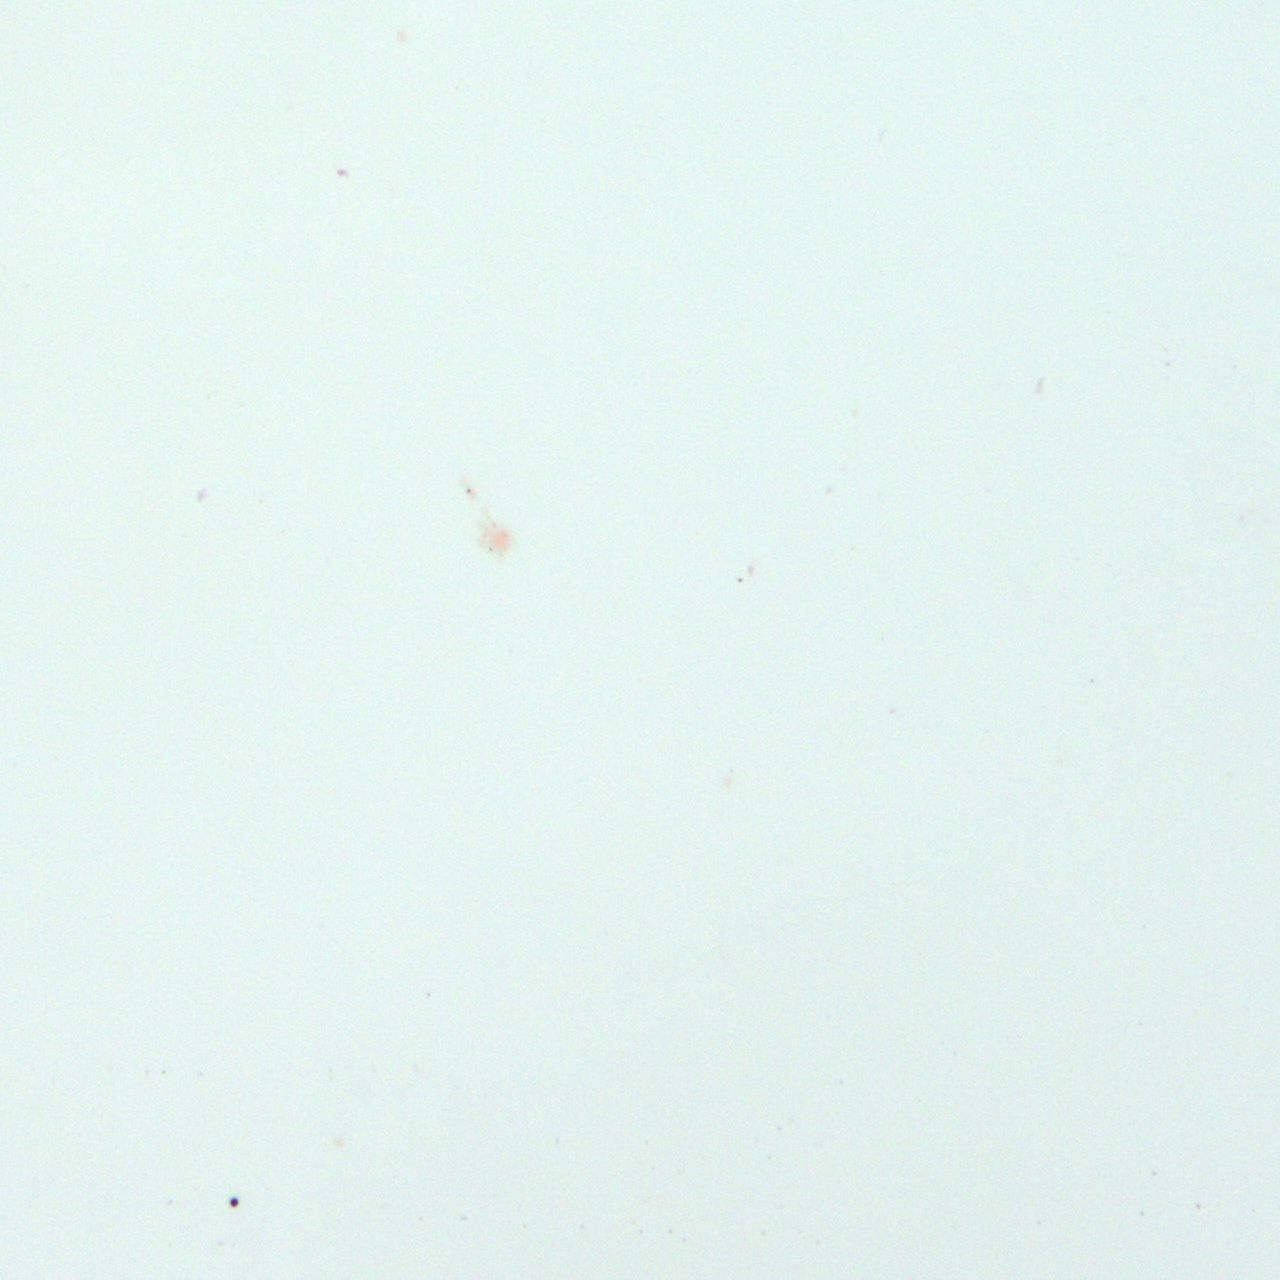dust: (229, 1197, 239, 1207)
